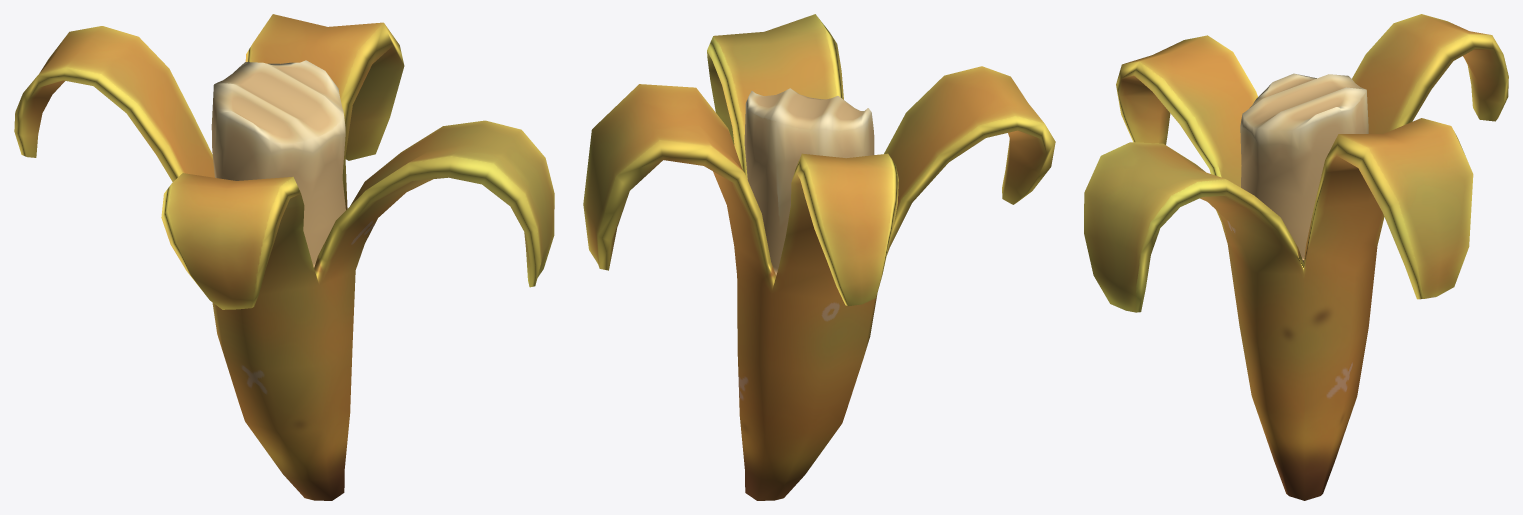
File: Bannana_HalfEaten.fbx
The picture shows the model from 3 angles, left to right: view 1: azimuth 30°, elevation 25°; view 2: azimuth 150°, elevation 25°; view 3: azimuth 270°, elevation 25°; orthographic projection. The views are drawn at different scales.
Visible parts, largest first — view 1: Bannana_HalfEaten; view 2: Bannana_HalfEaten; view 3: Bannana_HalfEaten.
Boxes of the visible parts, box(x1,y1,x2,y2) form: Bannana_HalfEaten: box(14, 14, 554, 500); Bannana_HalfEaten: box(583, 14, 1055, 500); Bannana_HalfEaten: box(1084, 14, 1508, 500).
Size of the model in its own units: 1377 by 1594 by 1509.
